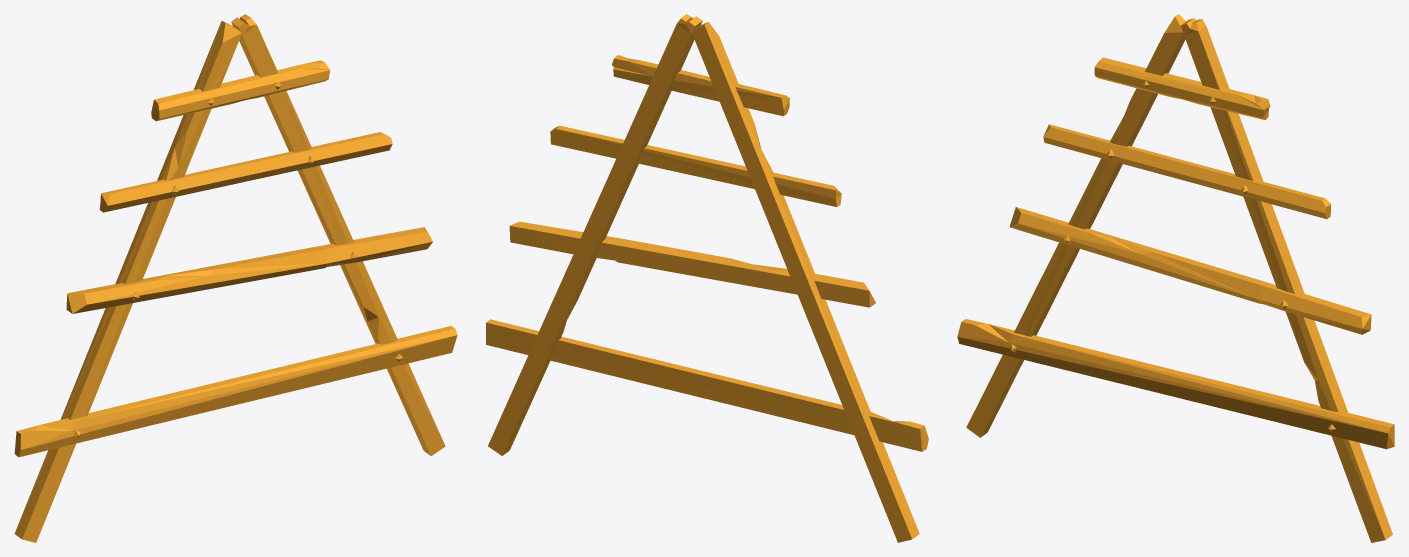
The model's file is SM_Hay_Drying_Rack_Triangle_B.fbx.
3 renders of one model, left to right at view 1: azimuth 30°, elevation 25°; view 2: azimuth 150°, elevation 25°; view 3: azimuth 330°, elevation 25°, orthographic.
Parts seen in each view (by area): view 1: hay-drying-rack-triangle-b; view 2: hay-drying-rack-triangle-b; view 3: hay-drying-rack-triangle-b.
Boxes of the visible parts, x1=… form: hay-drying-rack-triangle-b: x1=14, y1=14, x2=457, y2=542; hay-drying-rack-triangle-b: x1=486, y1=14, x2=928, y2=542; hay-drying-rack-triangle-b: x1=957, y1=14, x2=1394, y2=542.
Bounding box in the file's own units: 1.65 × 1.73 × 0.1063.
